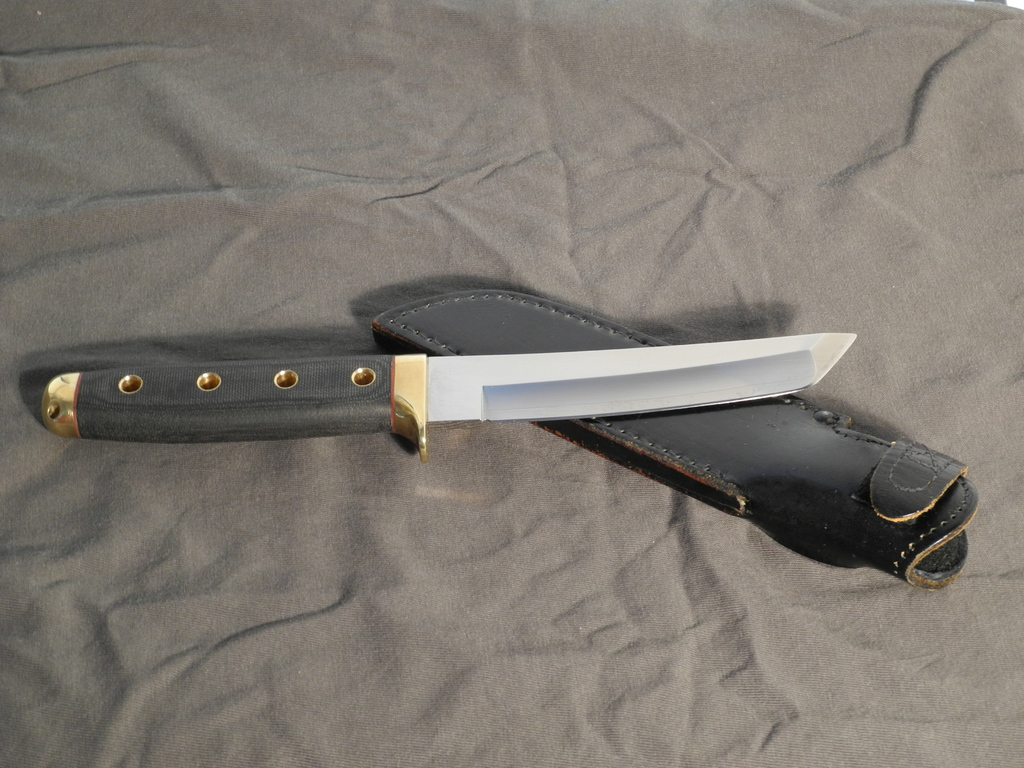knife: (40, 332, 857, 463)
